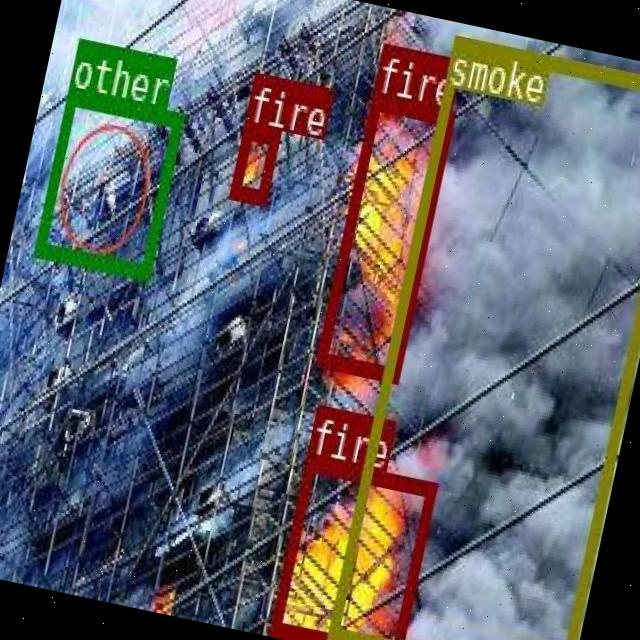fire: (314, 92, 452, 378), (268, 453, 434, 640), (228, 123, 280, 203)
smoke: (326, 32, 640, 640)
